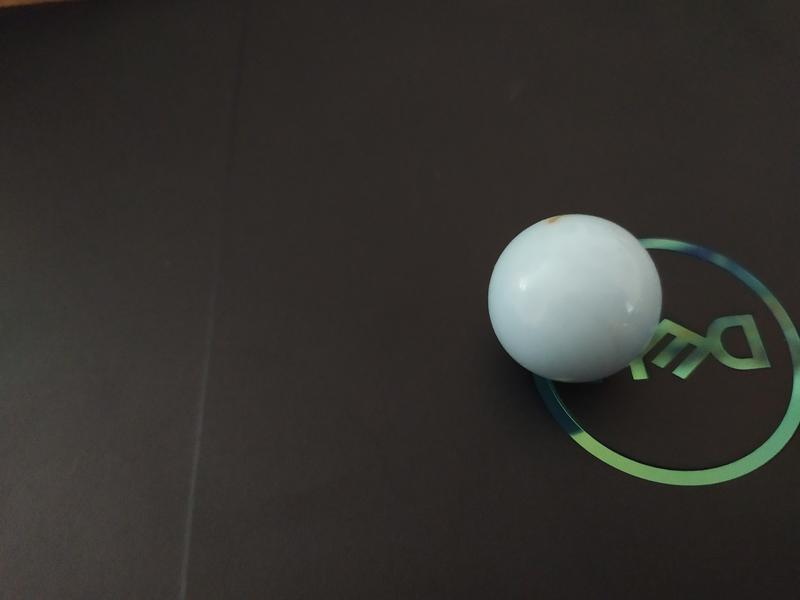Warning: (484, 209, 667, 386)
